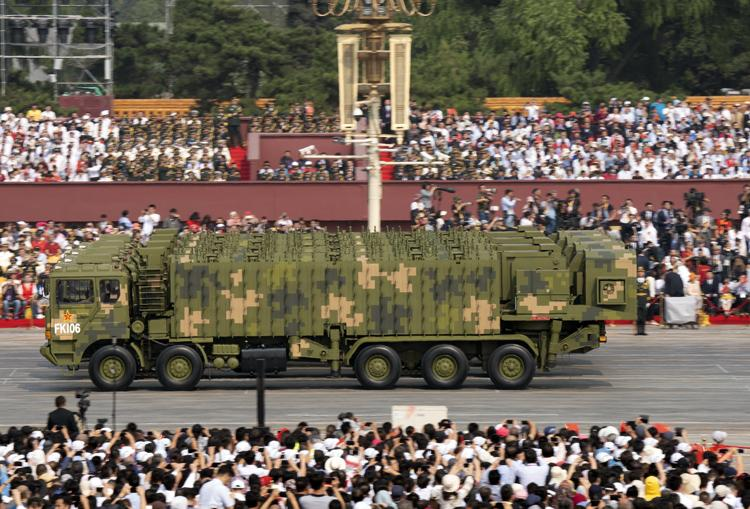truck: (27, 253, 639, 392)
